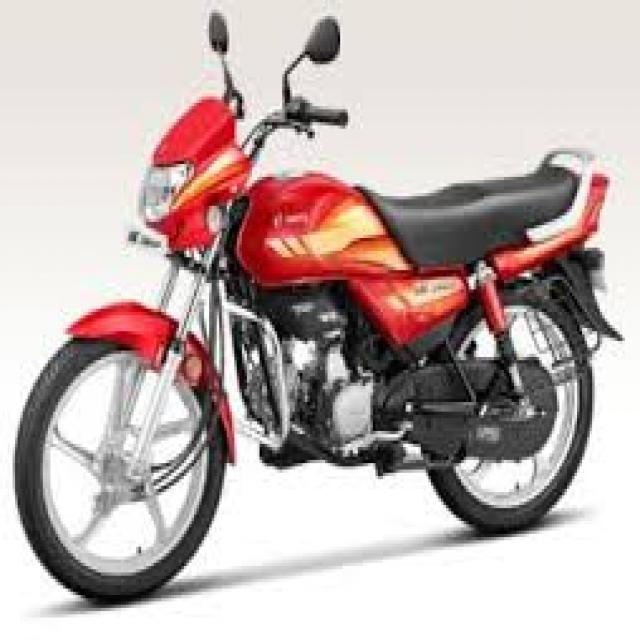Bike: (12, 10, 626, 607)
